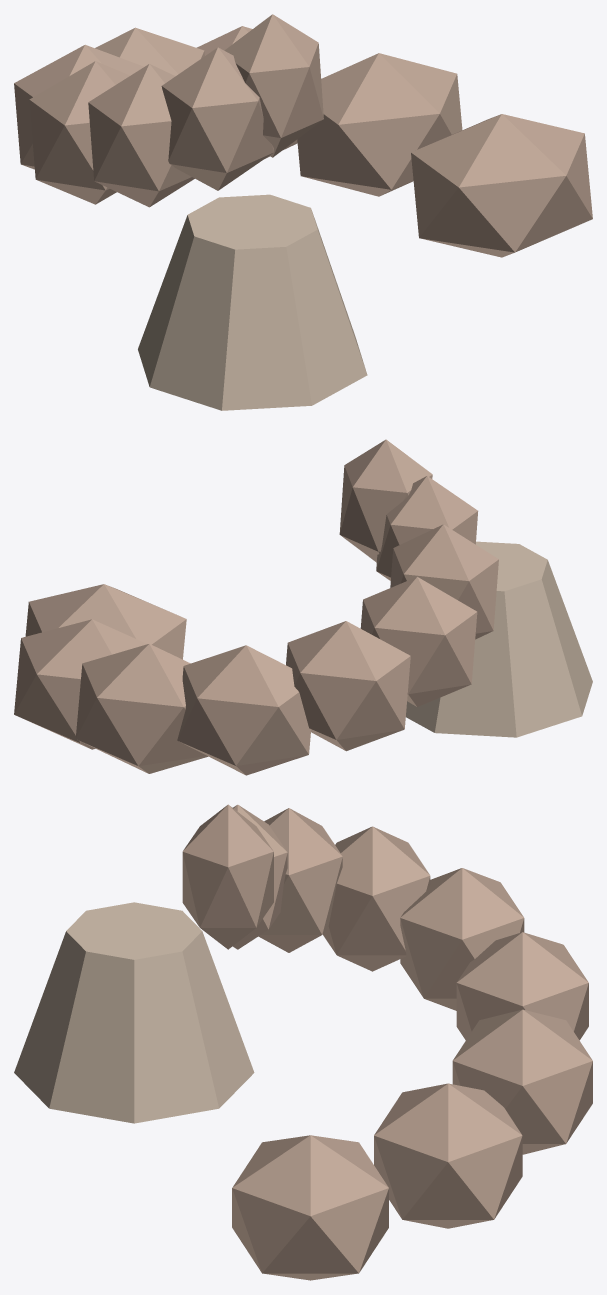
File: map-exclusive-v3__tide_07.glb
3 renders of one model, top to bottom at view 1: azimuth 30°, elevation 25°; view 2: azimuth 150°, elevation 25°; view 3: azimuth 270°, elevation 25°, orthographic. The views are drawn at different scales.
Visible parts, largest first — view 1: tide_07; view 2: tide_07; view 3: tide_07.
Part boxes in pixels (x1,y1,x2,y2): tide_07: (14,14,592,410); tide_07: (14,439,592,775); tide_07: (14,804,592,1280).
Bounding box in the file's own units: 1.52 × 0.944 × 1.44.
